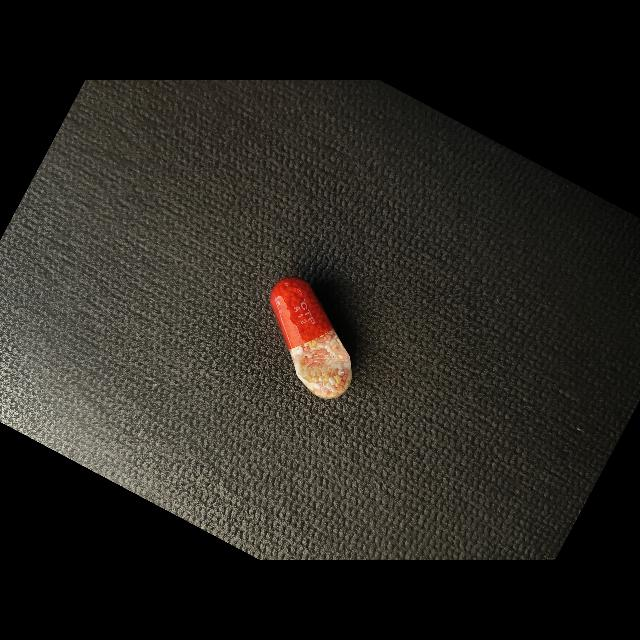Defective Capsule: (270, 277, 352, 399)
